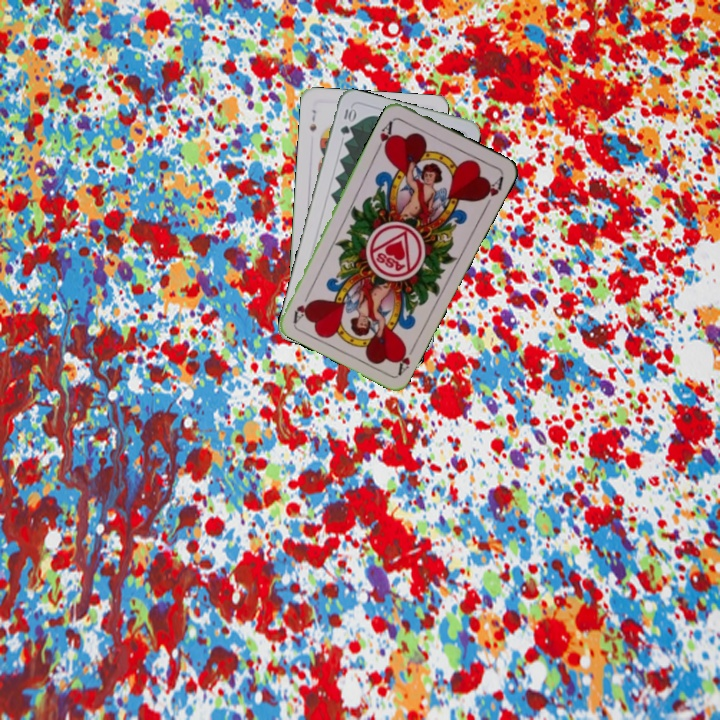G10: (336, 104, 357, 137)
HA: (392, 339, 419, 377), (373, 115, 397, 155)
S7: (305, 106, 319, 134)
